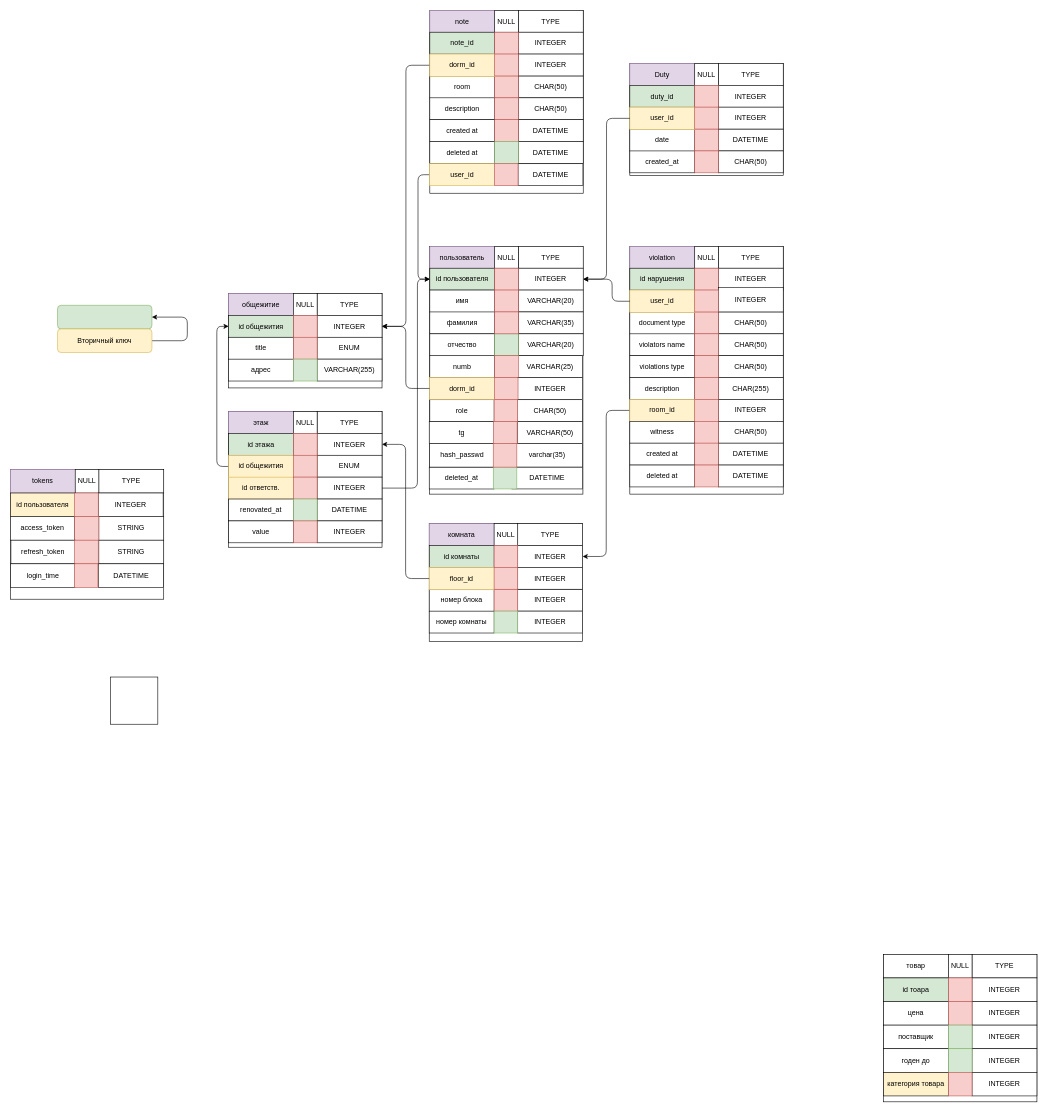
This 1047x1112 diagram has some shape labels left out. Each missing label, with the box of its shape:
s3: (110, 676, 158, 724)
Первичный ключ: (57, 305, 152, 329)
